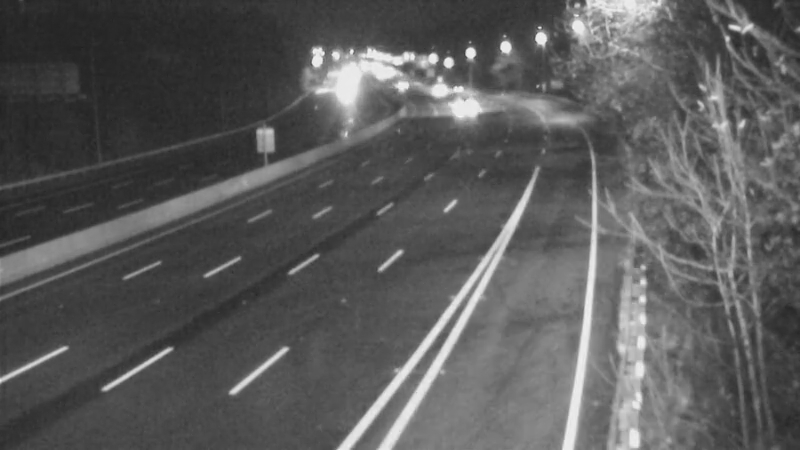vehicle: (378, 60, 428, 110), (431, 68, 481, 118), (415, 65, 465, 115), (439, 86, 489, 136)
